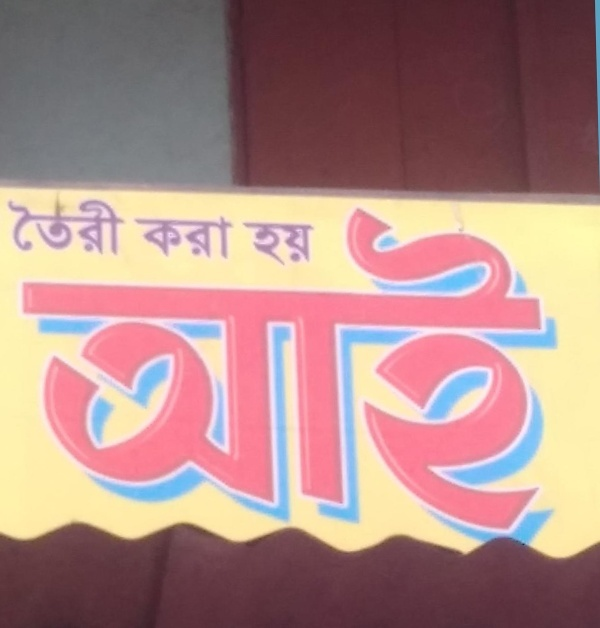text: (17, 199, 32, 548), (33, 199, 48, 548), (49, 199, 64, 548), (65, 199, 80, 548), (81, 199, 96, 548), (97, 199, 112, 548), (113, 199, 128, 548), (129, 199, 144, 548), (145, 199, 160, 548), (161, 199, 176, 548), (177, 199, 192, 548), (193, 199, 208, 548), (209, 199, 224, 548), (225, 199, 240, 548), (241, 199, 256, 548), (257, 199, 272, 548), (273, 199, 288, 548), (289, 199, 304, 548), (305, 199, 320, 548), (321, 199, 336, 548), (337, 199, 352, 548), (353, 199, 368, 548), (369, 199, 384, 548), (385, 199, 400, 548), (401, 199, 416, 548), (417, 199, 432, 548), (433, 199, 448, 548), (449, 199, 464, 548), (465, 199, 480, 548), (481, 199, 496, 548), (497, 199, 512, 548), (513, 199, 528, 548), (529, 199, 544, 548), (545, 199, 560, 548), (561, 199, 573, 548), (13, 199, 16, 548), (113, 201, 129, 261), (17, 201, 32, 261), (33, 201, 48, 261), (49, 201, 64, 261), (65, 201, 80, 261), (81, 201, 96, 261), (97, 201, 112, 261), (257, 221, 272, 268), (273, 221, 288, 268), (289, 221, 304, 268), (145, 219, 160, 261), (161, 219, 176, 261), (177, 219, 192, 261), (193, 219, 208, 261), (209, 219, 224, 261), (245, 221, 256, 268), (8, 201, 16, 261), (225, 219, 234, 261), (305, 221, 310, 268), (139, 219, 144, 261)
